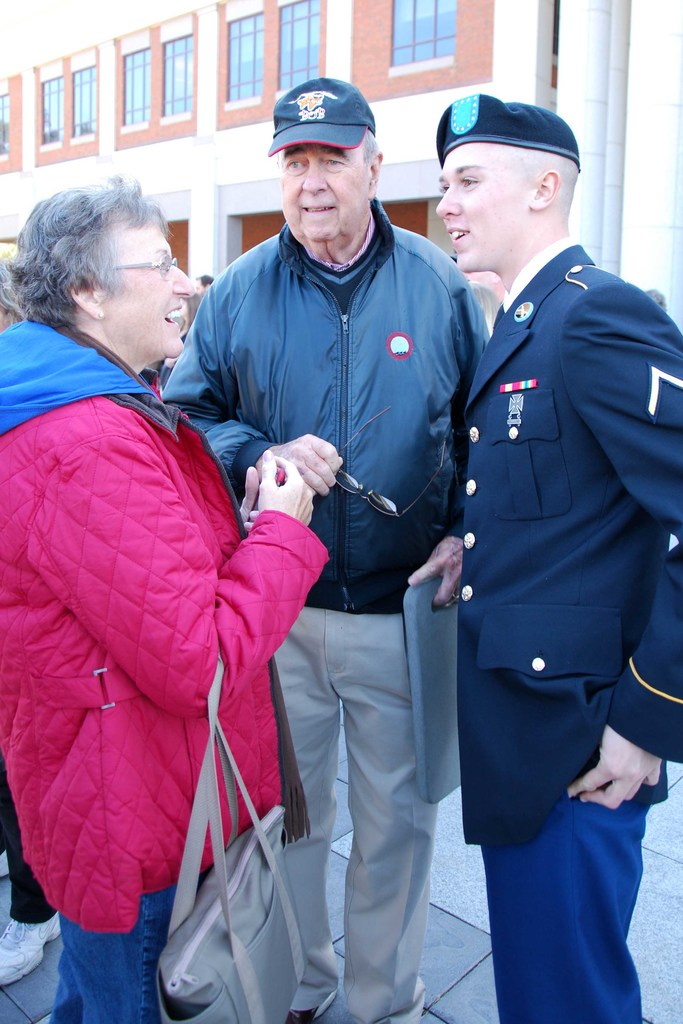Human-face: (101, 212, 193, 359), (435, 142, 538, 271), (279, 140, 363, 245), (193, 278, 206, 292)
